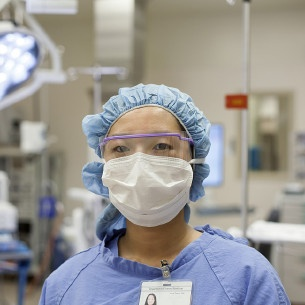Mask: (107, 133, 190, 216)
